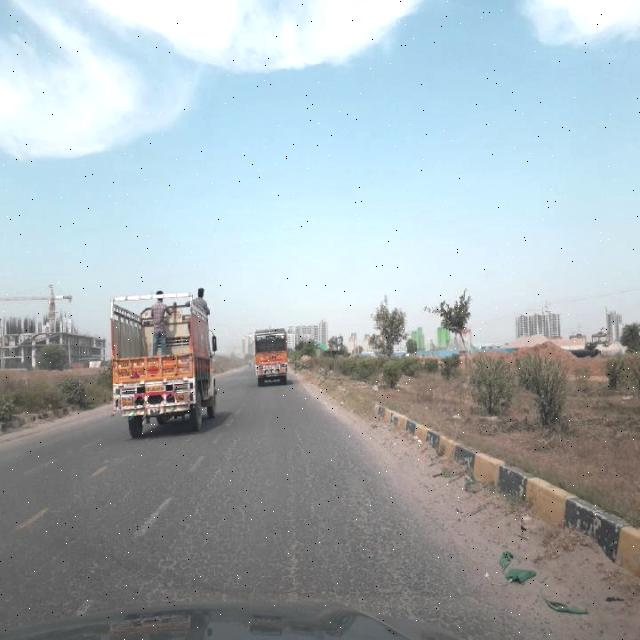D20: (48, 431, 487, 613)
